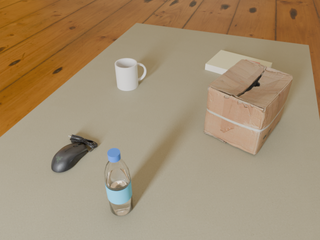book: (205, 50, 272, 75)
bottle: (104, 148, 133, 216)
box: (204, 59, 293, 155)
cup: (115, 58, 146, 91)
mouse: (51, 135, 98, 172)
